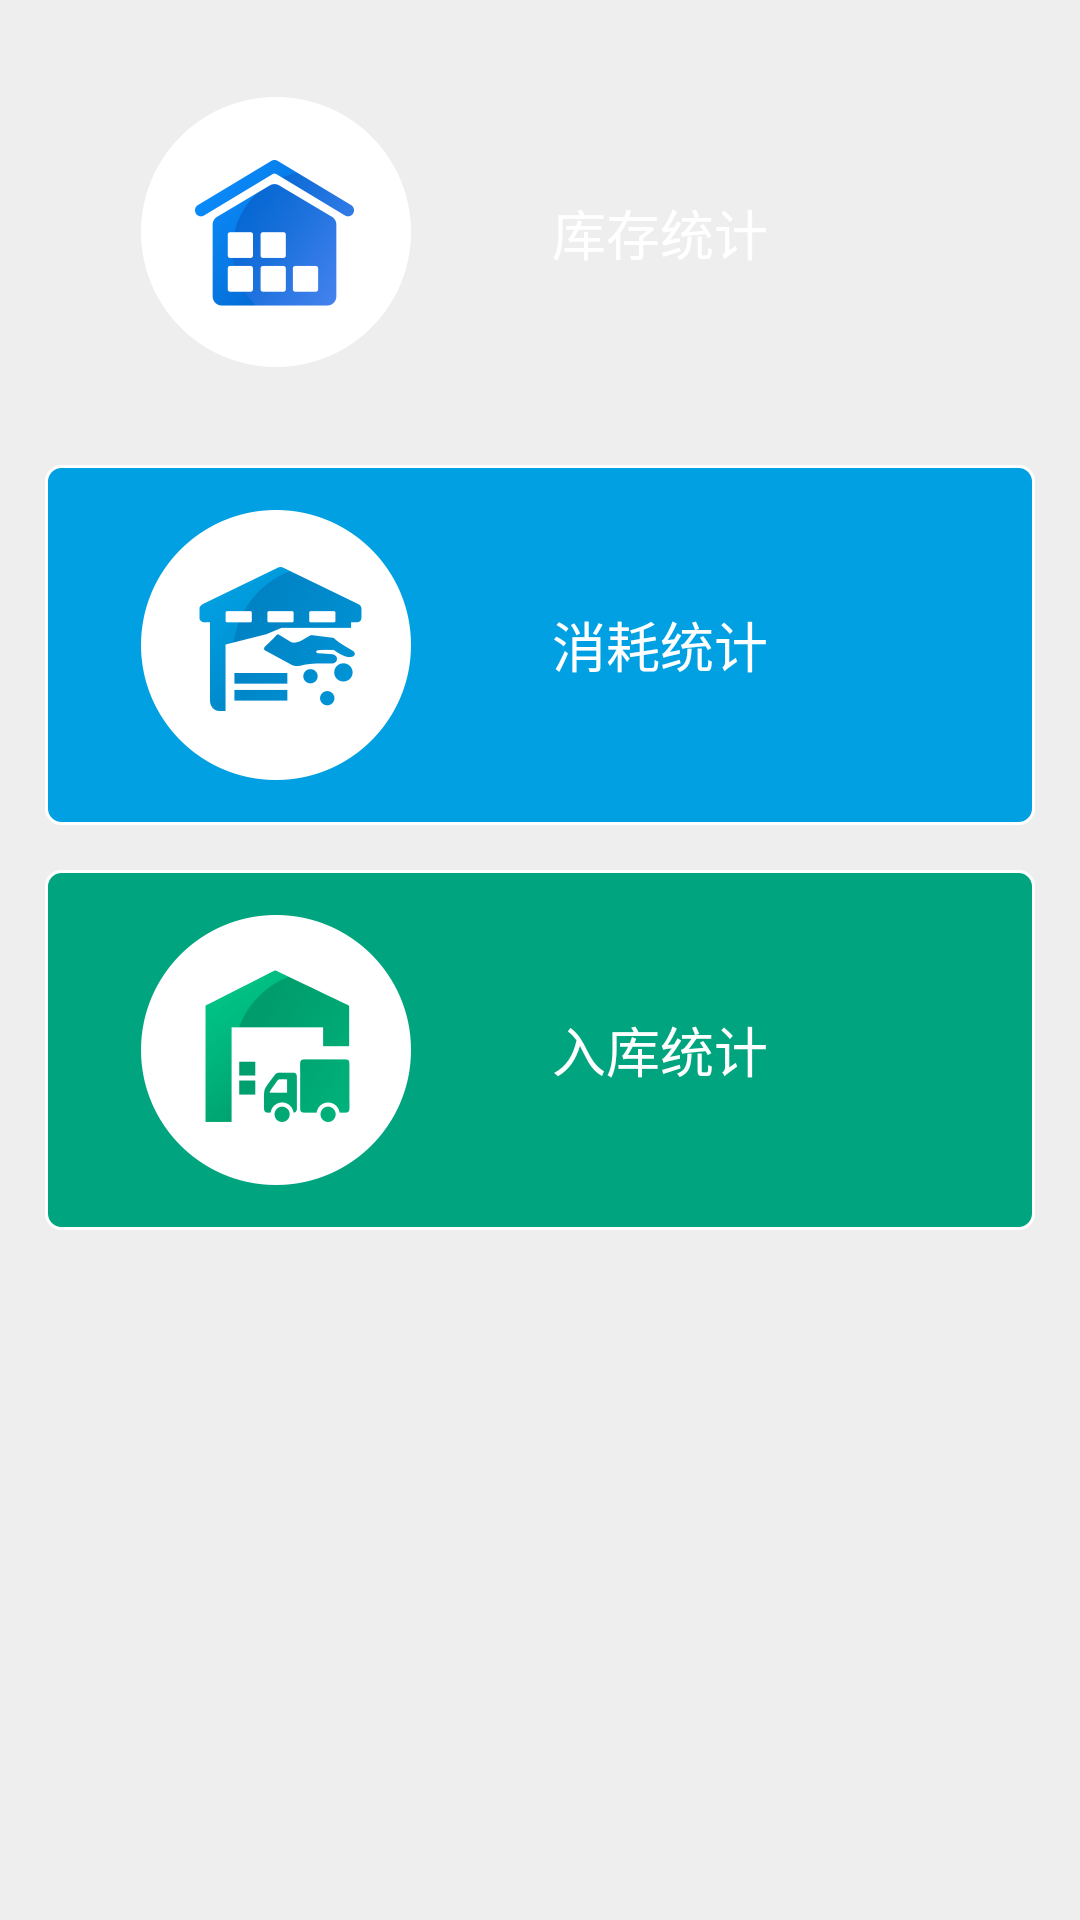

Where icons sit on this 1080 × 1920 app screen, as bbox=[x1, y1, x2, y2]:
consume: bbox=[141, 510, 411, 780]
instorage: bbox=[141, 915, 411, 1185]
inventory: bbox=[195, 160, 354, 306]
